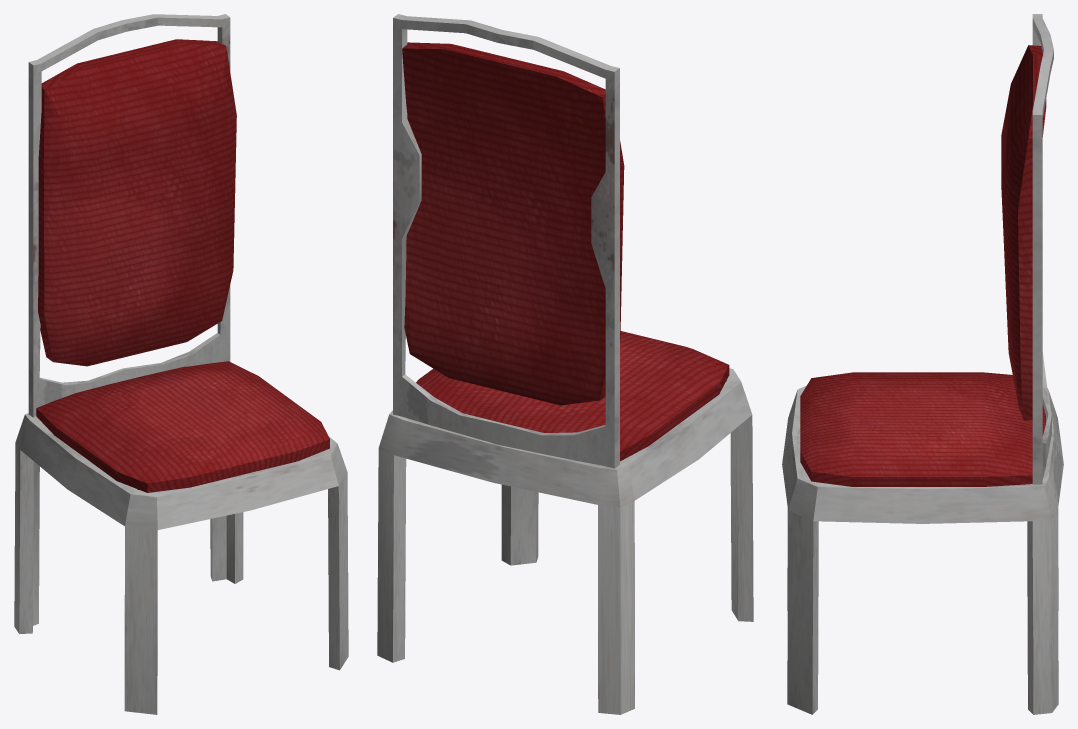
File: Chair_Victorian_Variation_1.fbx
3 views of the same model, side by side, from view 1: azimuth 30°, elevation 25°; view 2: azimuth 150°, elevation 25°; view 3: azimuth 270°, elevation 25° (orthographic). The views are drawn at different scales.
Visible parts, largest first — view 1: Chair_victorian_Variation; view 2: Chair_victorian_Variation; view 3: Chair_victorian_Variation.
Boxes of the visible parts, x1=… form: Chair_victorian_Variation: x1=14, y1=14, x2=348, y2=714; Chair_victorian_Variation: x1=377, y1=14, x2=753, y2=714; Chair_victorian_Variation: x1=782, y1=14, x2=1063, y2=714.
Size of the model in its own units: 180 by 428 by 180.
